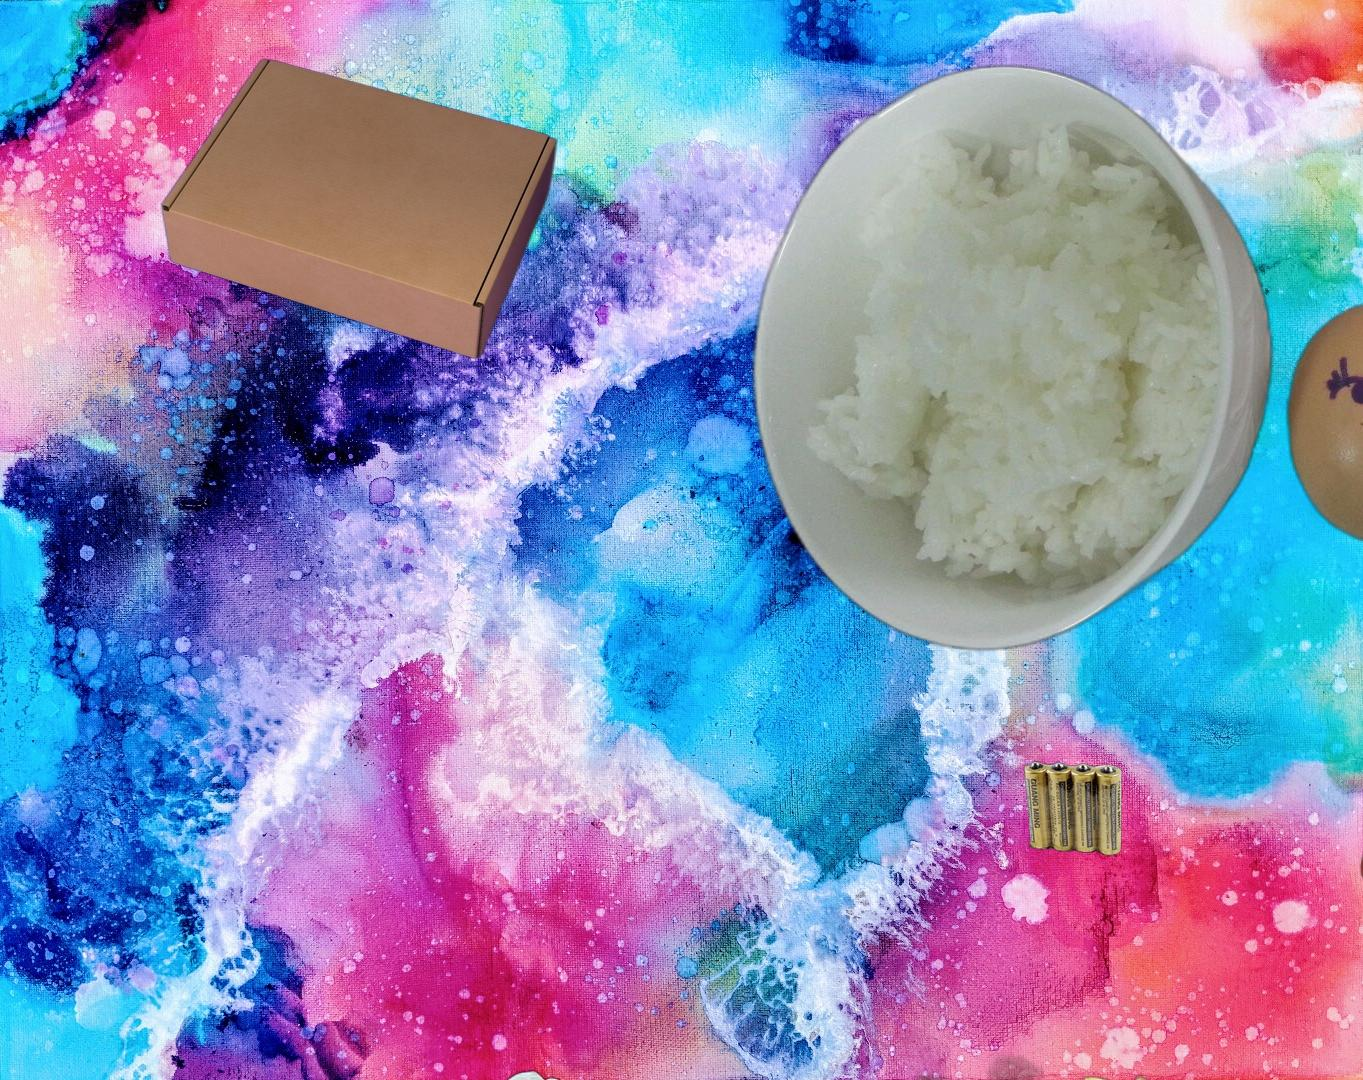battery: (1021, 757, 1125, 858)
biological: (743, 58, 1363, 657), (855, 976, 1255, 1080)
metal-cans: (1356, 399, 1363, 895)
plastic-bottles: (490, 1065, 582, 1080)
trashbox-cardboard: (156, 56, 563, 362)
